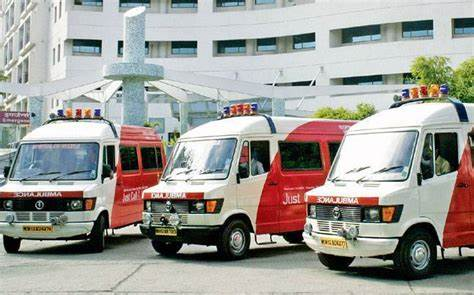ambulance: (302, 85, 474, 271), (142, 100, 298, 267), (4, 106, 131, 260)
